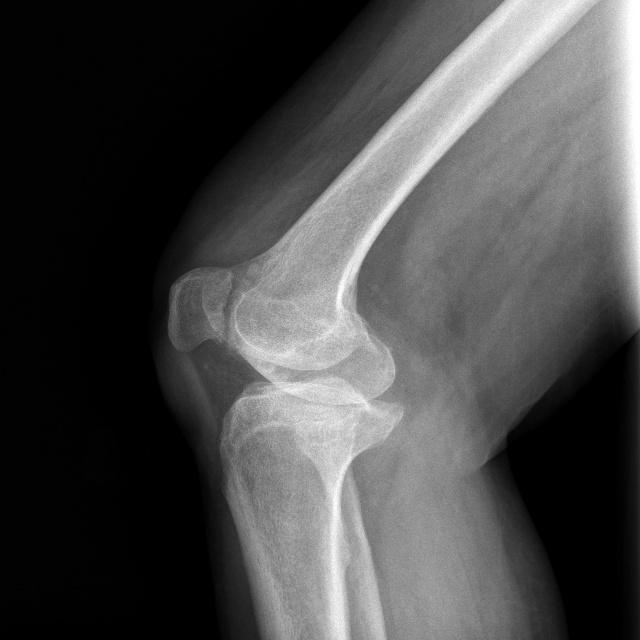Knee: (166, 262, 407, 435)
